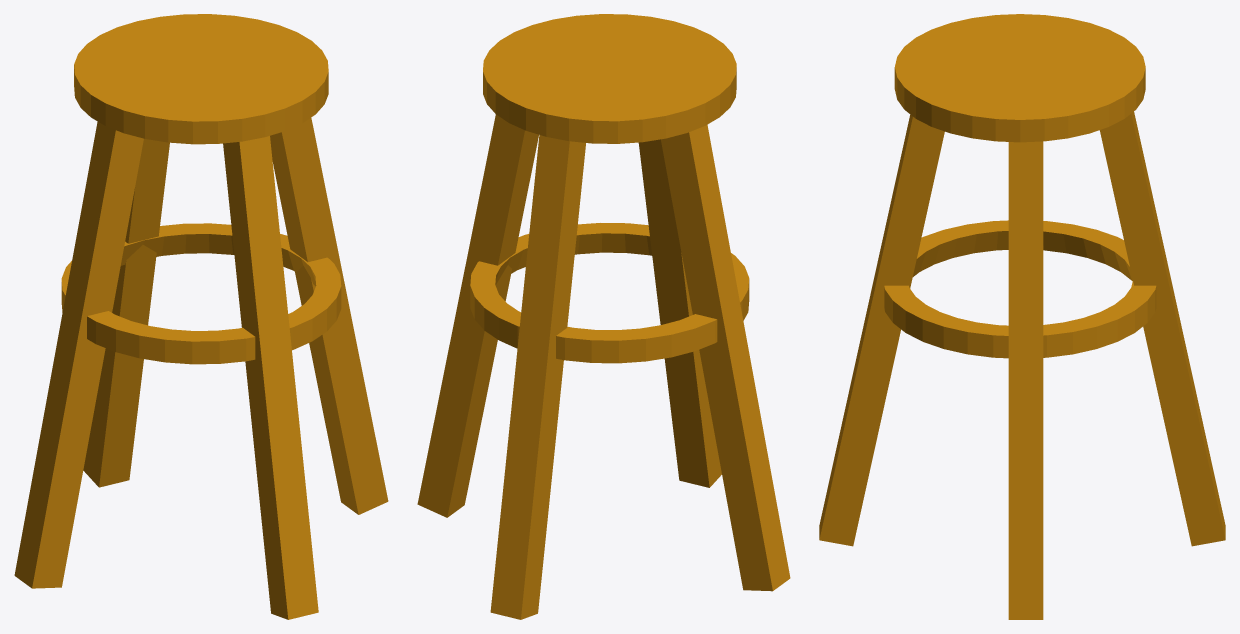
The model's file is stool.glb.
3 renders of one model, left to right at view 1: azimuth 30°, elevation 25°; view 2: azimuth 150°, elevation 25°; view 3: azimuth 270°, elevation 25°, orthographic.
Visible parts, largest first — view 1: Stool; view 2: Stool; view 3: Stool.
Part boxes in pixels (x1,y1,x2,y2): Stool: (14, 14, 388, 619); Stool: (417, 14, 790, 619); Stool: (819, 14, 1225, 619).
Bounding box in the file's own units: 2.52 × 3.25 × 2.53.
1 material, 1 textured.
